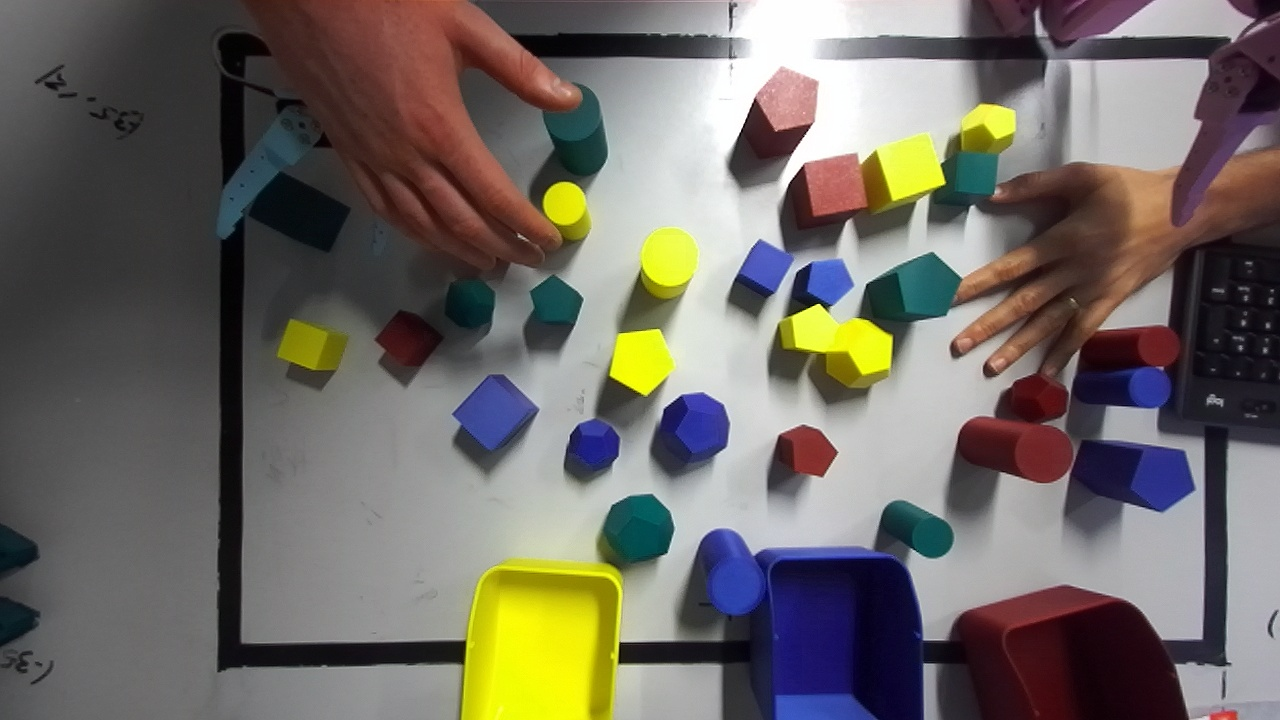bin: (955, 585, 1187, 719), (751, 547, 922, 719), (461, 558, 621, 719)
cube: (249, 172, 349, 251), (861, 133, 945, 213), (452, 374, 538, 450), (543, 82, 607, 175), (789, 153, 867, 229), (375, 310, 442, 366), (931, 151, 998, 206), (277, 319, 348, 370), (735, 240, 792, 296)
cylinder: (957, 416, 1072, 482), (696, 529, 765, 615), (1080, 325, 1179, 369), (880, 500, 953, 557), (640, 227, 698, 298), (1072, 367, 1171, 408), (542, 182, 590, 240)
dodecahedron: (657, 392, 729, 462), (602, 494, 673, 562), (825, 318, 892, 387), (565, 419, 619, 472), (1009, 373, 1068, 421), (960, 103, 1015, 153), (445, 278, 494, 328)
hexagonal: (1071, 440, 1194, 511), (862, 252, 961, 322), (742, 67, 817, 158), (609, 329, 674, 395), (774, 425, 837, 476), (791, 258, 853, 308), (777, 304, 838, 352), (530, 275, 582, 325)
